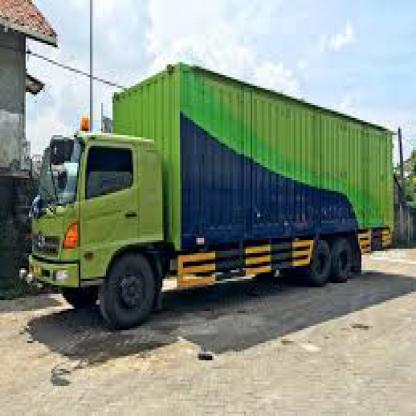truck: (28, 132, 169, 329)
